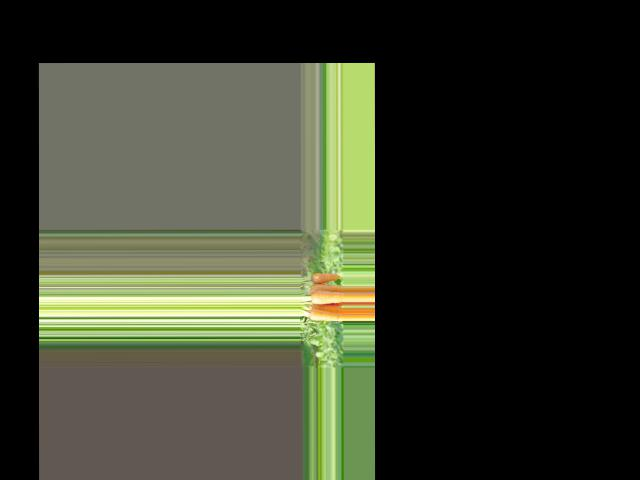carrot: (310, 270, 344, 285)
